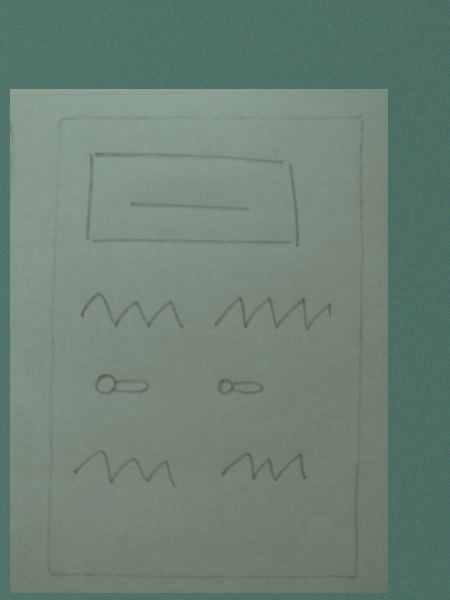button: (83, 142, 310, 253)
switch: (74, 357, 161, 409), (205, 368, 278, 413)
text: (208, 283, 336, 341), (70, 441, 181, 500), (72, 282, 188, 336), (207, 435, 317, 490)
